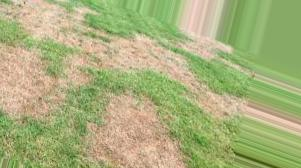patch: (104, 95, 166, 163), (3, 49, 42, 113), (101, 36, 172, 71), (20, 2, 80, 43), (192, 81, 227, 117), (179, 36, 218, 55)
